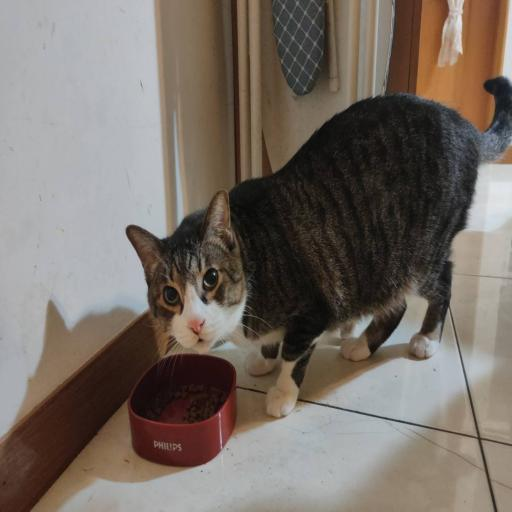cat: (146, 166, 468, 358)
